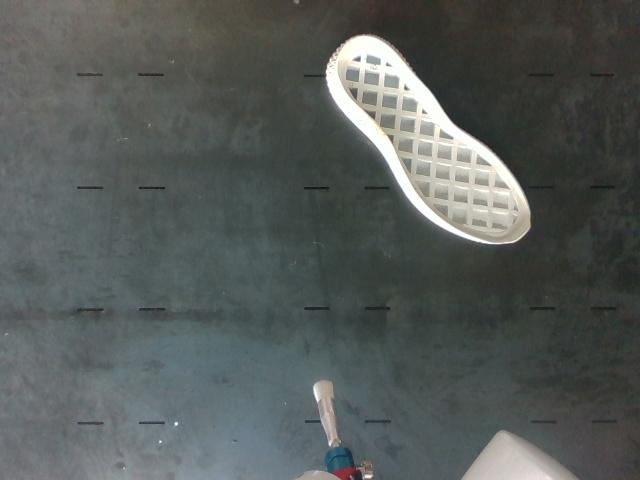shoes: (337, 36, 528, 243)
